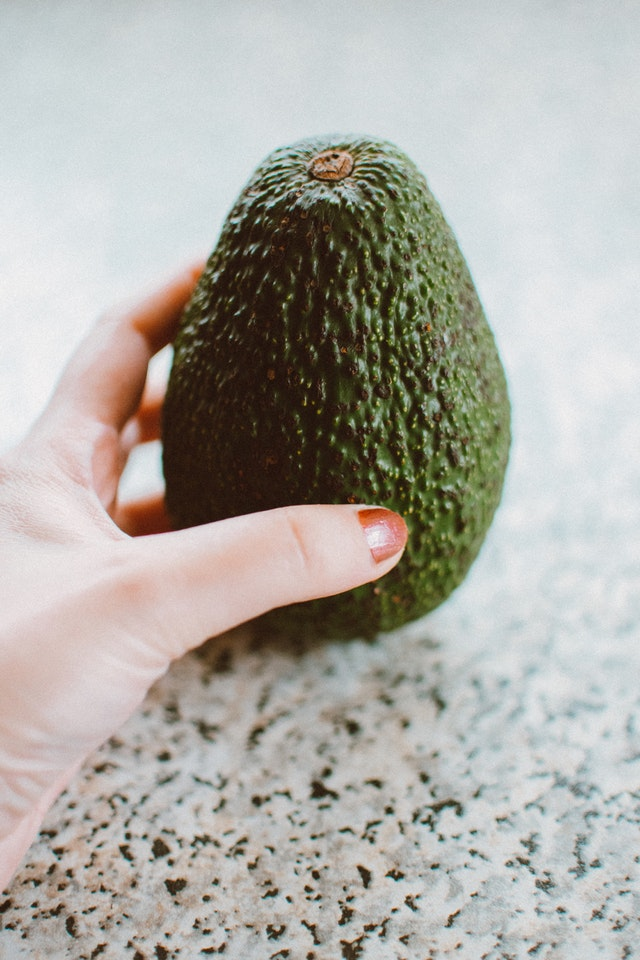abacate: (163, 134, 515, 656)
